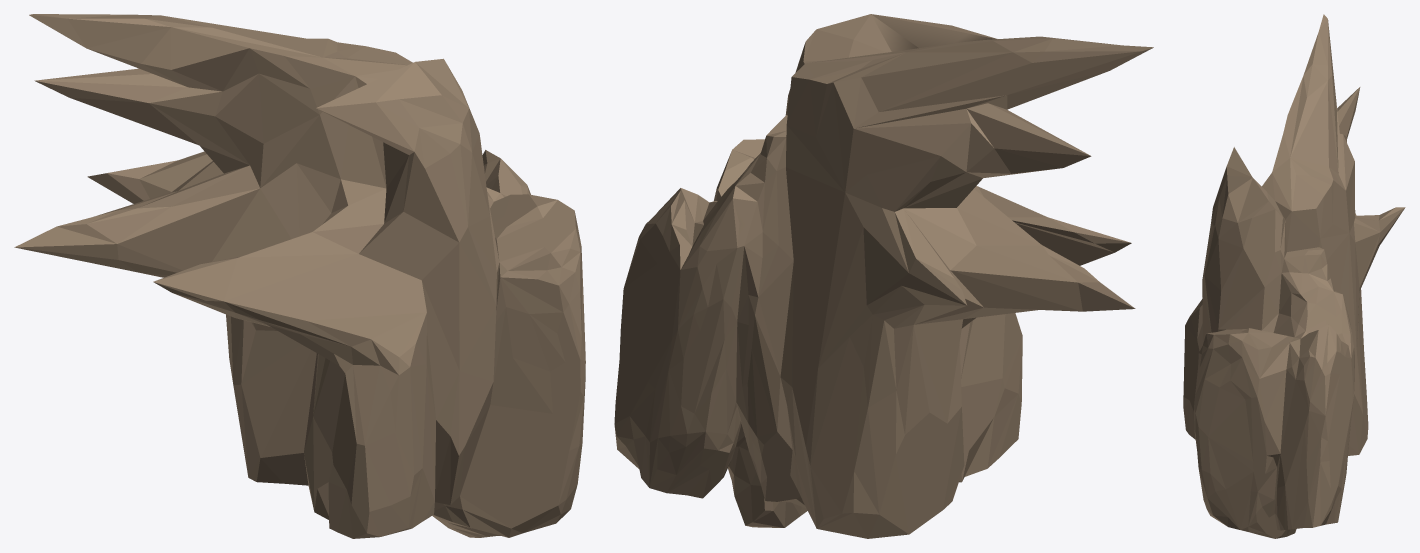
Rendered from SM_Env_Rock_Spikes_Sharp_01.fbx.
3 renders of one model, left to right at view 1: azimuth 30°, elevation 25°; view 2: azimuth 150°, elevation 25°; view 3: azimuth 270°, elevation 25°, orthographic. The views are drawn at different scales.
Parts seen in each view (by area): view 1: SM_Env_Rock_Spikes_Sharp_01; view 2: SM_Env_Rock_Spikes_Sharp_01; view 3: SM_Env_Rock_Spikes_Sharp_01.
Part boxes in pixels (left/top/right/bottom): SM_Env_Rock_Spikes_Sharp_01: left=14, top=14, right=585, bottom=538; SM_Env_Rock_Spikes_Sharp_01: left=614, top=14, right=1153, bottom=538; SM_Env_Rock_Spikes_Sharp_01: left=1183, top=14, right=1405, bottom=538.
Size of the model in its own units: 2804 by 2982 by 1546.
